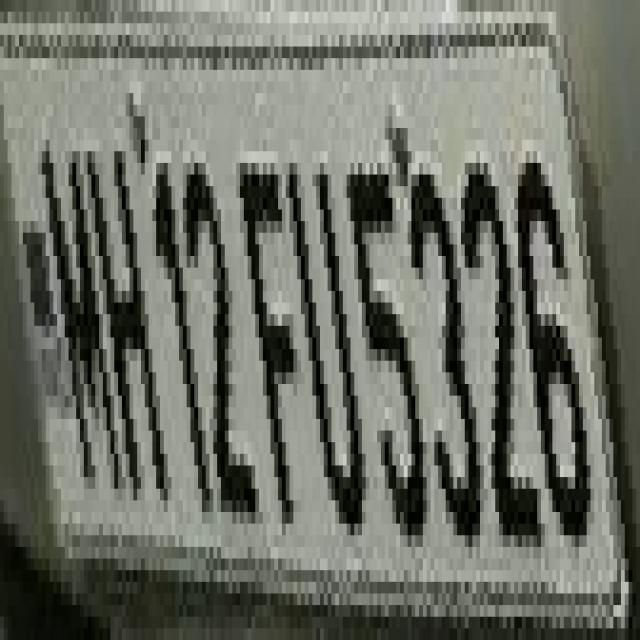license_plate: (0, 47, 606, 605)
